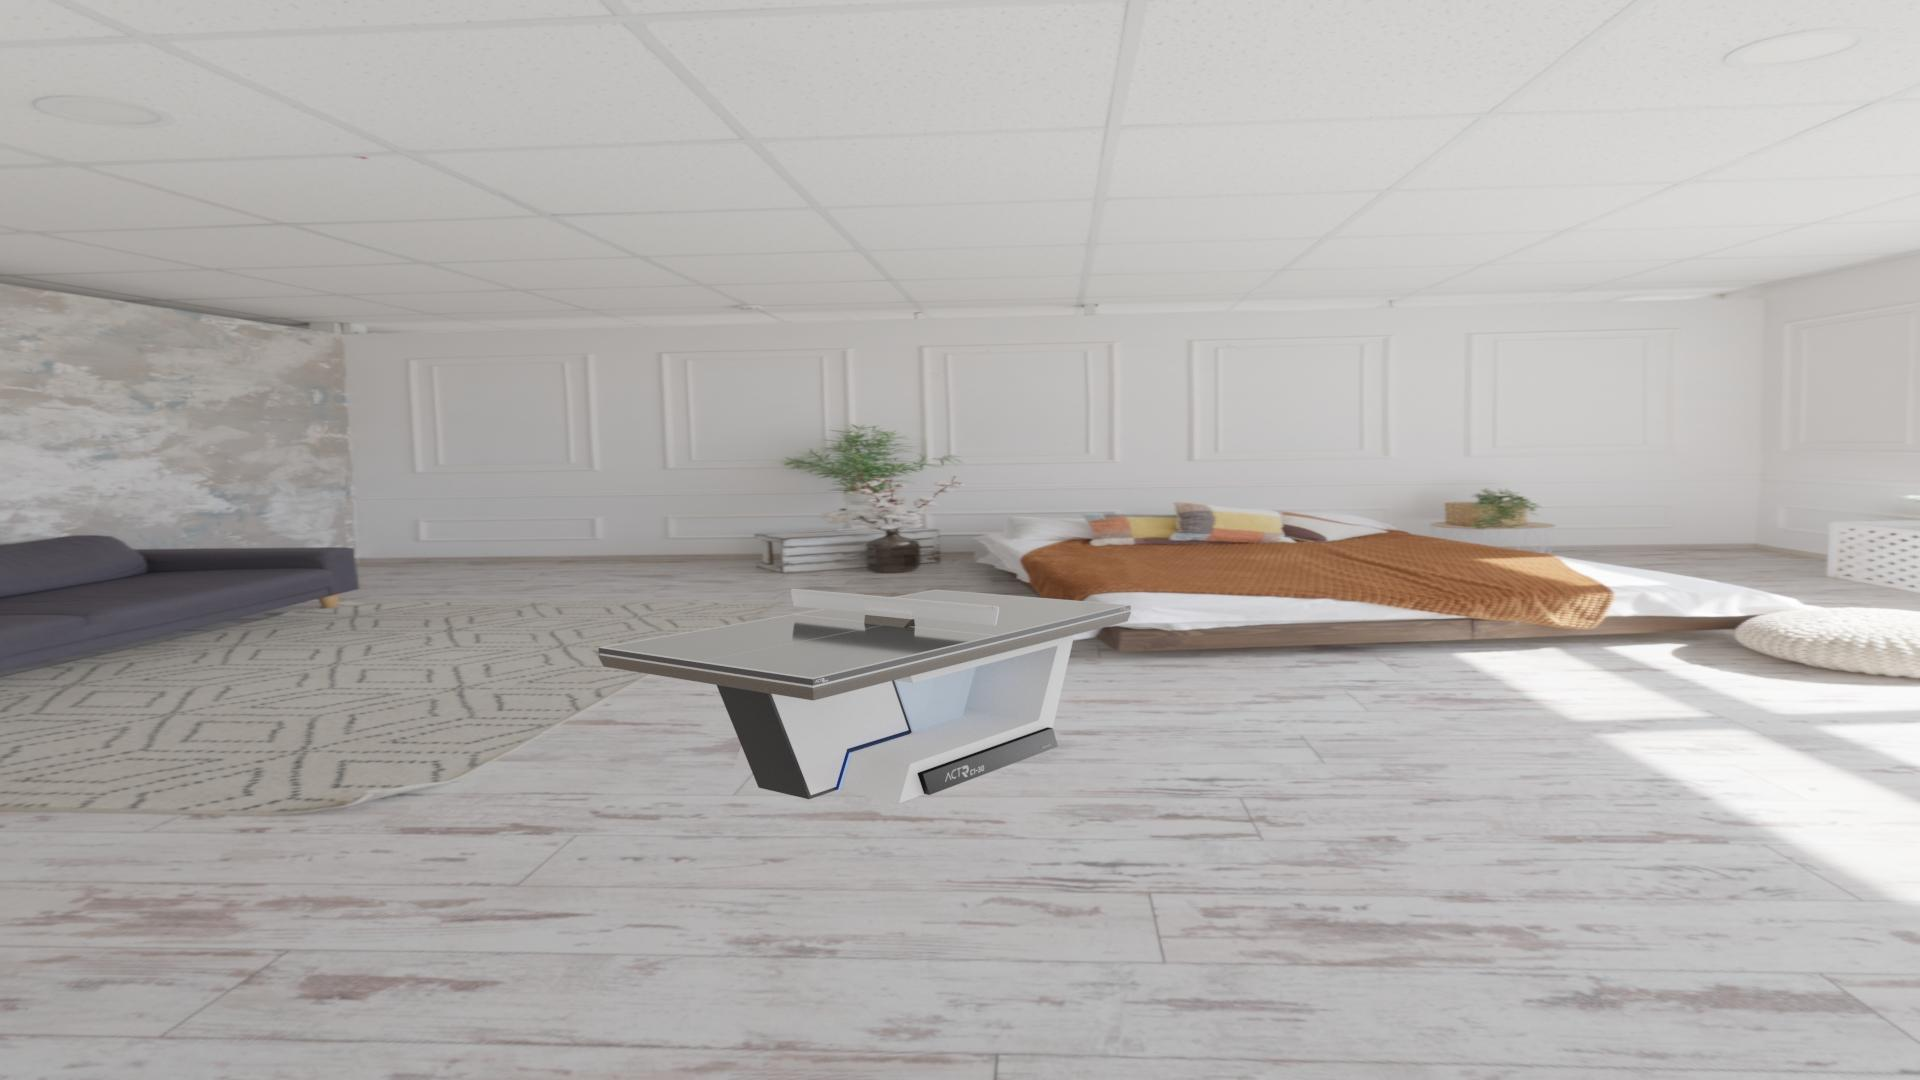table: (604, 591, 1126, 678)
